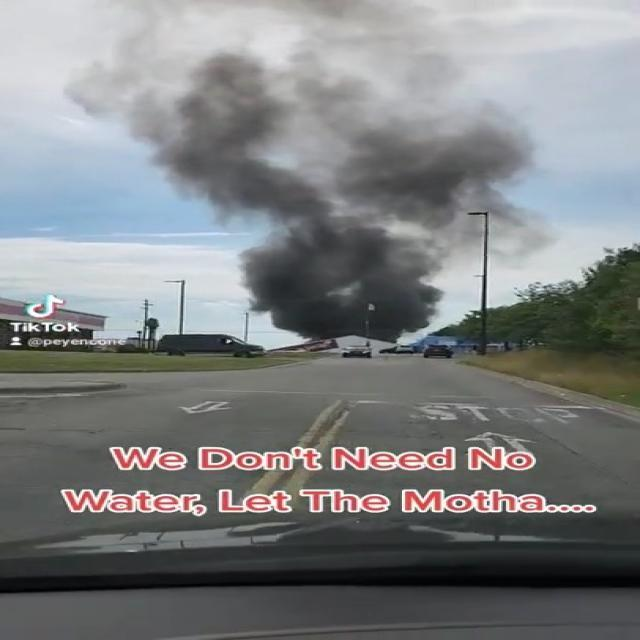Smoke: (222, 220, 446, 340)
